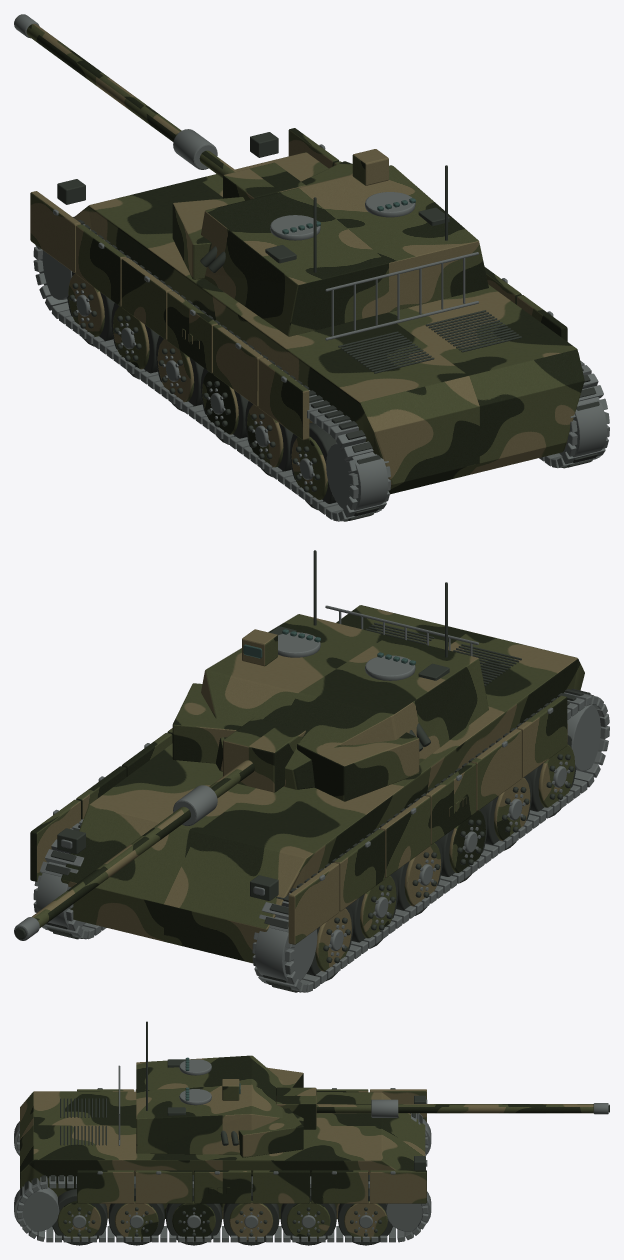
Rendered from k2-surface-refinement.glb.
3 renders of one model, top to bottom at view 1: azimuth 30°, elevation 25°; view 2: azimuth 150°, elevation 25°; view 3: azimuth 270°, elevation 25°, orthographic. The views are drawn at different scales.
Parts seen in each view (by area): view 1: Hull, Turret, Track_L, Gun, Track_R, Wheel_-1_5, Wheel_-1_3, Wheel_-1_4, Wheel_-1_1, Wheel_-1_2, Wheel_-1_0; view 2: Hull, Turret, Track_L, Gun, Track_R, Wheel_-1_4, Wheel_-1_2, Wheel_-1_3, Wheel_-1_1, Wheel_-1_5, Wheel_-1_0; view 3: Hull, Turret, Track_R, Gun, Wheel_1_5, Wheel_1_2, Wheel_1_1, Wheel_1_3, Wheel_1_4, Wheel_1_0, Track_L.
Boxes of the visible parts, x1,y1,x2,y2 form: Hull: (30, 128, 584, 494); Turret: (172, 149, 488, 340); Track_L: (33, 217, 390, 521); Gun: (14, 14, 305, 200); Track_R: (539, 361, 609, 468); Wheel_-1_5: (290, 422, 336, 510); Wheel_-1_3: (200, 368, 248, 444); Wheel_-1_4: (245, 401, 293, 477); Wheel_-1_1: (111, 303, 159, 379); Wheel_-1_2: (156, 335, 203, 411); Wheel_-1_0: (67, 271, 114, 346); Hull: (30, 605, 584, 963); Turret: (172, 550, 488, 801); Track_L: (252, 688, 609, 992); Gun: (14, 717, 305, 940); Track_R: (33, 819, 106, 939); Wheel_-1_4: (484, 774, 532, 850); Wheel_-1_2: (395, 839, 442, 915); Wheel_-1_3: (439, 807, 487, 882); Wheel_-1_1: (350, 872, 398, 948); Wheel_-1_5: (529, 735, 576, 817); Wheel_-1_0: (306, 905, 353, 980); Hull: (20, 1088, 427, 1219); Turret: (118, 1021, 303, 1157); Track_R: (14, 1175, 431, 1242); Gun: (276, 1087, 609, 1129); Wheel_1_5: (52, 1189, 107, 1245); Wheel_1_2: (223, 1188, 279, 1245); Wheel_1_1: (280, 1189, 336, 1245); Wheel_1_3: (166, 1188, 222, 1245); Wheel_1_4: (108, 1189, 164, 1245); Wheel_1_0: (338, 1189, 393, 1245); Track_L: (14, 1113, 431, 1155).
Size of the model in its own units: 3.69 by 3.38 by 11.02.
Materials: 5 (1 with a texture image).
